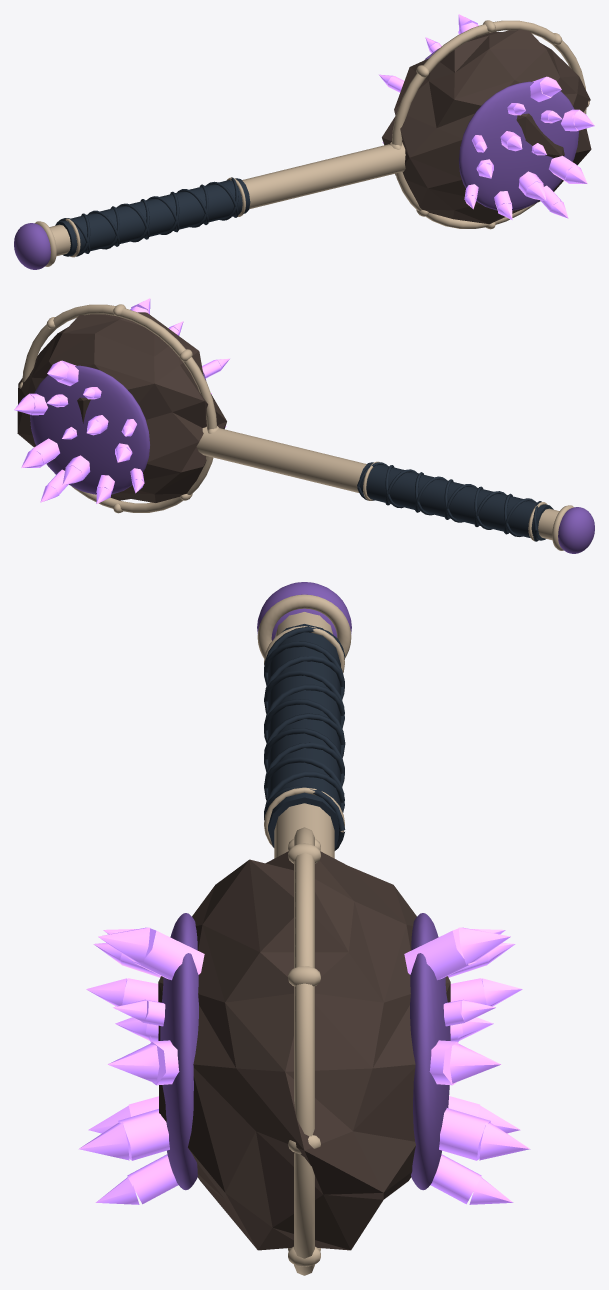
Rendered from amethyst-geode.glb.
3 views of the same model, one above another, from view 1: azimuth 30°, elevation 25°; view 2: azimuth 150°, elevation 25°; view 3: azimuth 270°, elevation 25° (orthographic). The views are drawn at different scales.
Parts seen in each view (by area): view 1: 08_Faultline_Hammer__body_Sculpt_frame, 08_Faultline_Hammer__body_Sculpt_metal, 08_Faultline_Hammer__body_Sculpt_coat, 08_Faultline_Hammer__body_Sculpt_grip, 08_Faultline_Hammer__body_Sculpt_crystal; view 2: 08_Faultline_Hammer__body_Sculpt_frame, 08_Faultline_Hammer__body_Sculpt_metal, 08_Faultline_Hammer__body_Sculpt_coat, 08_Faultline_Hammer__body_Sculpt_grip, 08_Faultline_Hammer__body_Sculpt_crystal; view 3: 08_Faultline_Hammer__body_Sculpt_frame, 08_Faultline_Hammer__body_Sculpt_crystal, 08_Faultline_Hammer__body_Sculpt_coat, 08_Faultline_Hammer__body_Sculpt_metal, 08_Faultline_Hammer__body_Sculpt_grip.
Part boxes in pixels (<box>): 08_Faultline_Hammer__body_Sculpt_frame: <box>382,29,591,224</box>; 08_Faultline_Hammer__body_Sculpt_metal: <box>35,20,589,266</box>; 08_Faultline_Hammer__body_Sculpt_coat: <box>14,48,578,269</box>; 08_Faultline_Hammer__body_Sculpt_grip: <box>55,177,250,256</box>; 08_Faultline_Hammer__body_Sculpt_crystal: <box>379,14,594,219</box>; 08_Faultline_Hammer__body_Sculpt_frame: <box>17,312,226,502</box>; 08_Faultline_Hammer__body_Sculpt_metal: <box>19,304,573,550</box>; 08_Faultline_Hammer__body_Sculpt_coat: <box>30,365,594,553</box>; 08_Faultline_Hammer__body_Sculpt_grip: <box>357,462,553,541</box>; 08_Faultline_Hammer__body_Sculpt_crystal: <box>14,298,229,503</box>; 08_Faultline_Hammer__body_Sculpt_frame: <box>158,851,450,1250</box>; 08_Faultline_Hammer__body_Sculpt_crystal: <box>78,927,530,1204</box>; 08_Faultline_Hammer__body_Sculpt_coat: <box>158,582,450,1190</box>; 08_Faultline_Hammer__body_Sculpt_metal: <box>257,594,351,1275</box>; 08_Faultline_Hammer__body_Sculpt_grip: <box>264,624,345,850</box>.
Bounding box in the file's own units: 2.29 × 0.79 × 0.7816.
